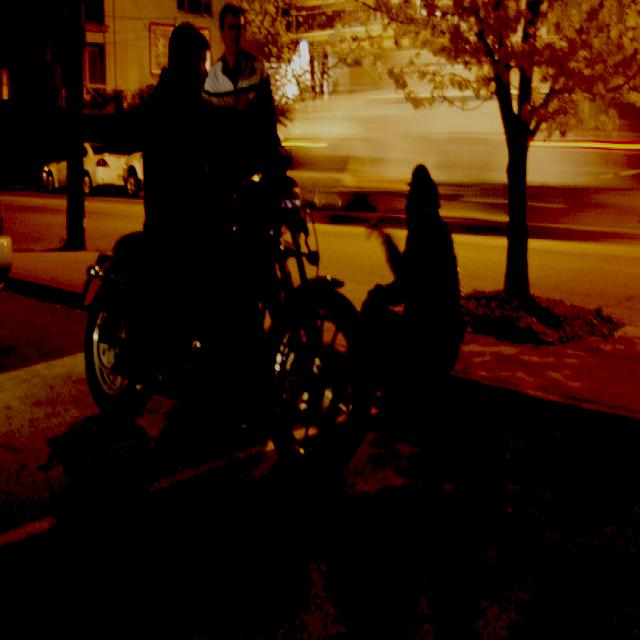Motorbike: (78, 105, 374, 489)
